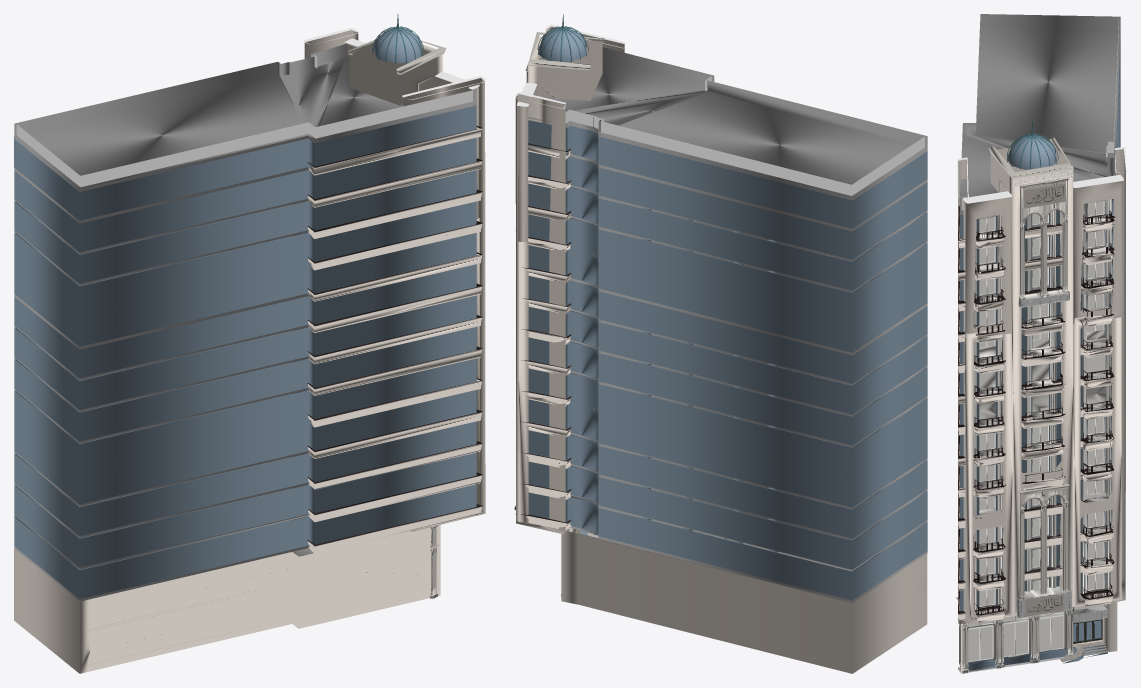
Rendered from tower-ar.glb.
3 views of the same model, side by side, from view 1: azimuth 30°, elevation 25°; view 2: azimuth 150°, elevation 25°; view 3: azimuth 270°, elevation 25° (orthographic).
Parts seen in each view (by area): view 1: Line014, Line013, Box243, Object010, Arc 005, Box058; view 2: Line014, Line013, Box243, Object010, Arc 005; view 3: Line013, Box243, 001_617, Line014, Object010, Arc 005, Box236, Line043, Box058, Roof001, Line022, Cnc-NghiaHouse386-Model3dpro.com172 (+1 smaller).
Part boxes in pixels (x1=…): Line014: x1=14, y1=29, x2=476, y2=599; Line013: x1=14, y1=30, x2=485, y2=673; Box243: x1=14, y1=43, x2=476, y2=631; Object010: x1=307, y1=126, x2=482, y2=545; Arc 005: x1=348, y1=40, x2=446, y2=598; Box058: x1=303, y1=28, x2=485, y2=99; Line014: x1=528, y1=28, x2=927, y2=600; Line013: x1=514, y1=26, x2=927, y2=673; Box243: x1=528, y1=47, x2=927, y2=602; Object010: x1=514, y1=143, x2=571, y2=523; Arc 005: x1=525, y1=32, x2=603, y2=533; Line013: x1=958, y1=141, x2=1125, y2=673; Box243: x1=959, y1=14, x2=1120, y2=672; 001_617: x1=967, y1=199, x2=1111, y2=662; Line014: x1=960, y1=36, x2=1120, y2=671; Object010: x1=958, y1=206, x2=1115, y2=615; Arc 005: x1=956, y1=137, x2=1107, y2=673; Box236: x1=1024, y1=183, x2=1065, y2=616; Line043: x1=979, y1=214, x2=1104, y2=608; Box058: x1=957, y1=147, x2=1126, y2=203; Roof001: x1=1007, y1=121, x2=1058, y2=169; Line022: x1=1060, y1=641, x2=1107, y2=662; Cnc-NghiaHouse386-Model3dpro.com172: x1=1015, y1=170, x2=1072, y2=186.
Size of the model in its own units: 0.3334 by 0.4491 by 0.1262.
Materials: 15 (2 with a texture image).
